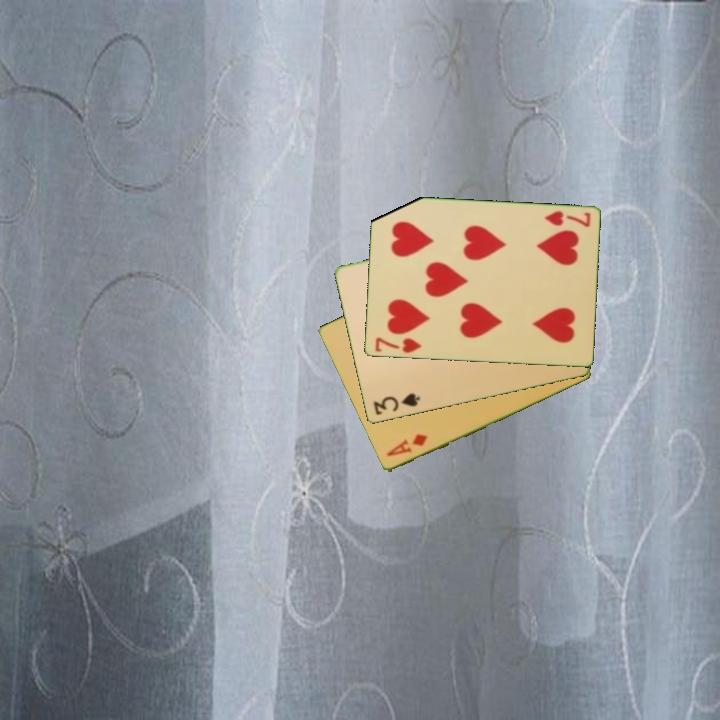3s: (369, 390, 423, 418)
7h: (541, 207, 593, 230), (371, 334, 424, 356)
Ad: (383, 430, 430, 460)
